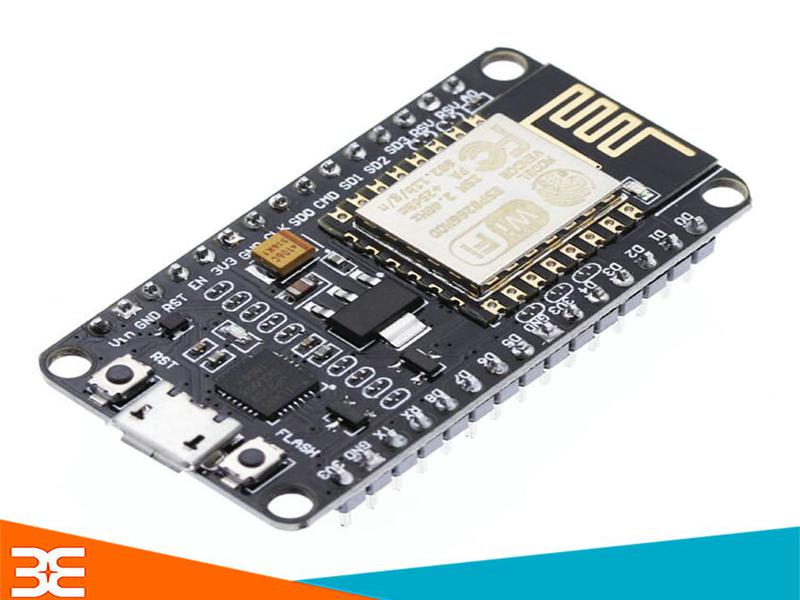ESP8266: (38, 33, 756, 536)
